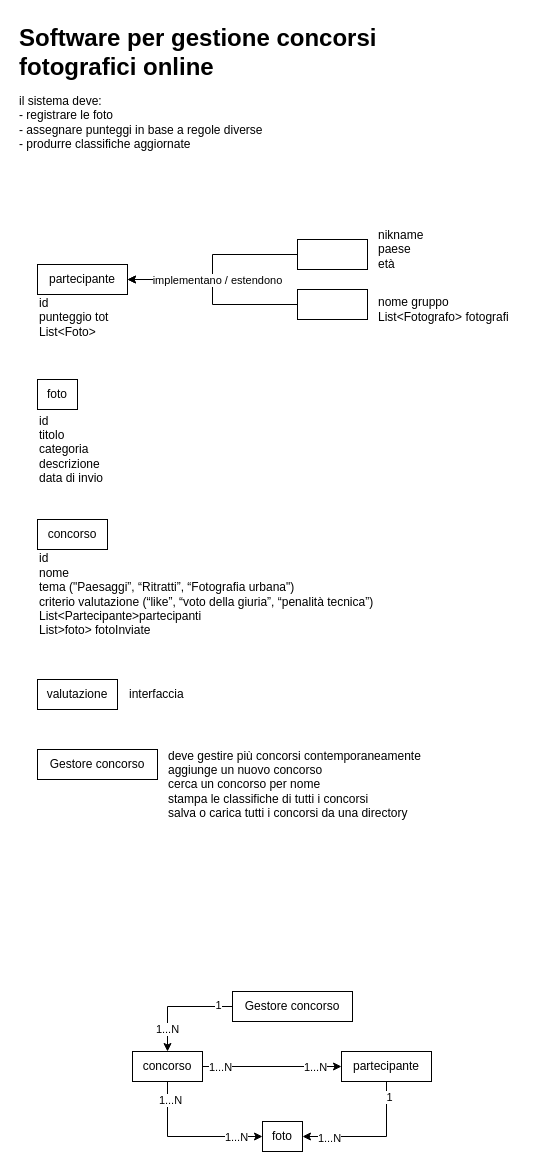
Some shapes in this 543 by 1169 pixel diagram are drawn without their labels. The box of each missing label's shape, as (x1, y1, x2, y2) in pixels:
collettivo: (296, 288, 368, 320)
fotografo: (296, 238, 368, 270)
